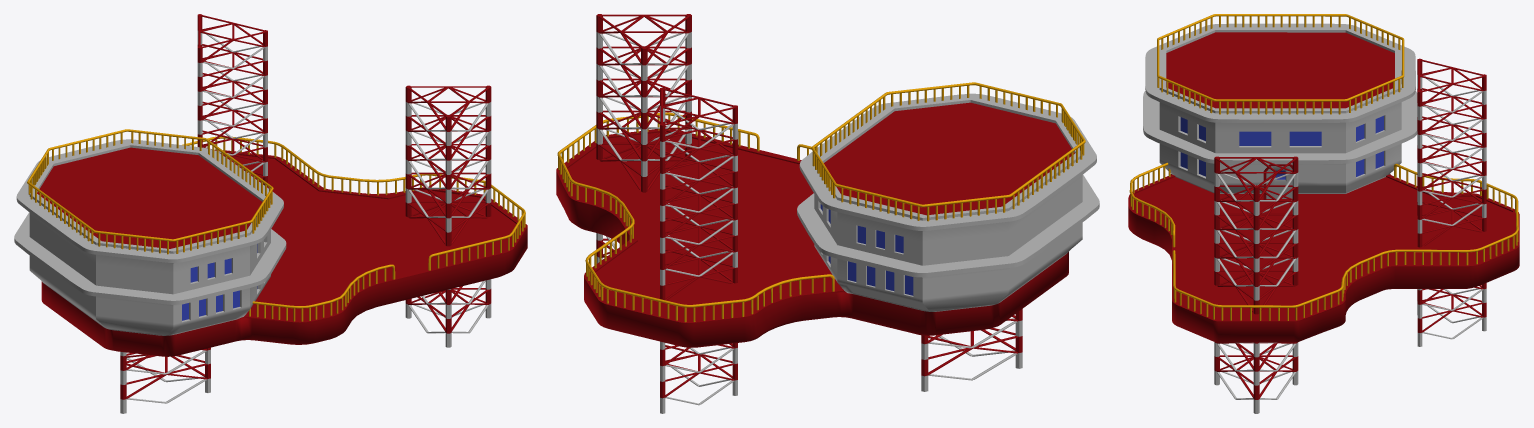
File: DrillPlatform.fbx
The picture shows the model from 3 angles, left to right: view 1: azimuth 30°, elevation 25°; view 2: azimuth 150°, elevation 25°; view 3: azimuth 270°, elevation 25°; orthographic projection. The views are drawn at different scales.
Parts seen in each view (by area): view 1: ScaffoldSegment.003; view 2: ScaffoldSegment.003; view 3: ScaffoldSegment.003.
Part boxes in pixels (x1=…): ScaffoldSegment.003: x1=14, y1=14, x2=527, y2=413; ScaffoldSegment.003: x1=556, y1=14, x2=1099, y2=413; ScaffoldSegment.003: x1=1128, y1=14, x2=1519, y2=413.
Bounding box in the file's own units: 3812 × 2122 × 2941.
